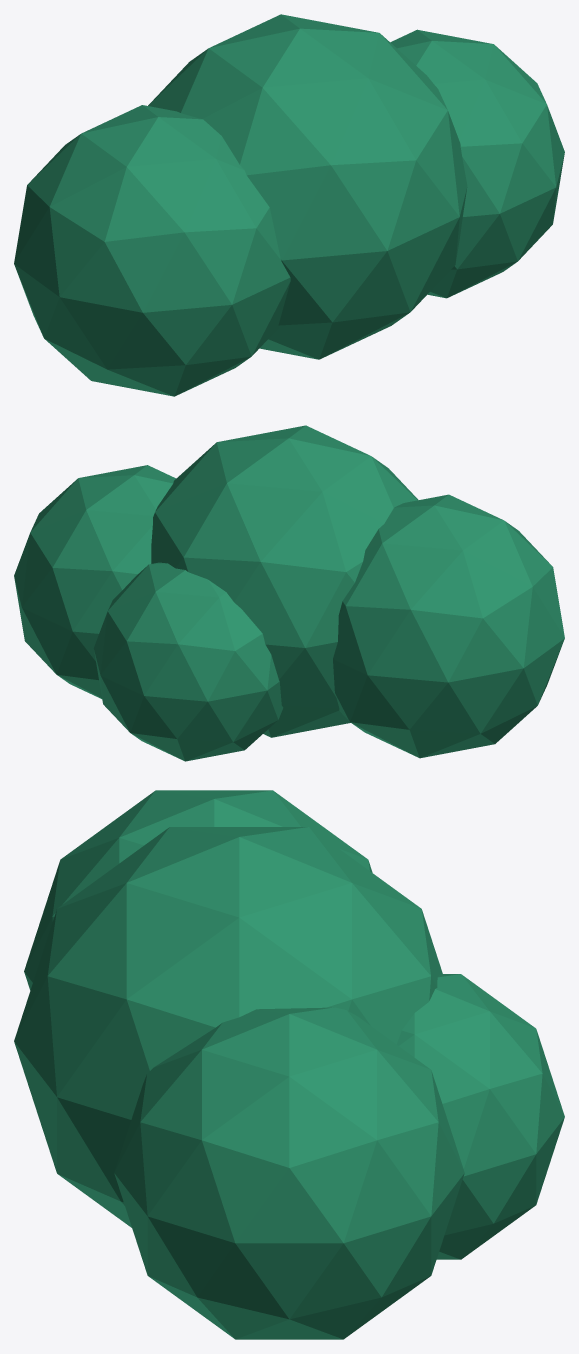
The model's file is bush.glb.
3 renders of one model, top to bottom at view 1: azimuth 30°, elevation 25°; view 2: azimuth 150°, elevation 25°; view 3: azimuth 270°, elevation 25°, orthographic. The views are drawn at different scales.
Visible parts, largest first — view 1: bush; view 2: bush; view 3: bush.
Part boxes in pixels (x1,y1,x2,y2): bush: [14, 14, 564, 396]; bush: [14, 425, 564, 761]; bush: [14, 790, 564, 1339].
Bounding box in the file's own units: 1.59 × 0.9 × 1.1.
